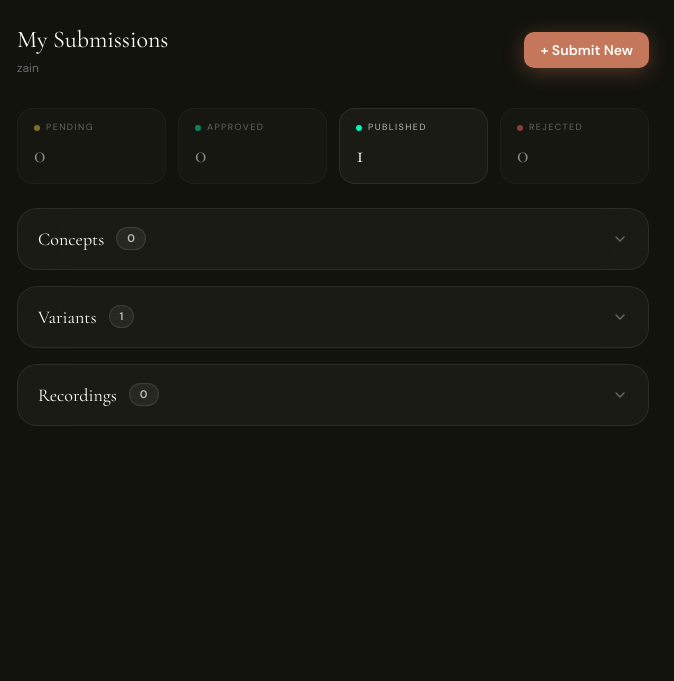
My Submissions — needs completion › shows a pending edit as old → new next to the unchanged details
The image size is (674, 681).
Click the button "Variants 1" at {"x": 67, "y": 316}, box [18,286,648,346]
(page scrolled)
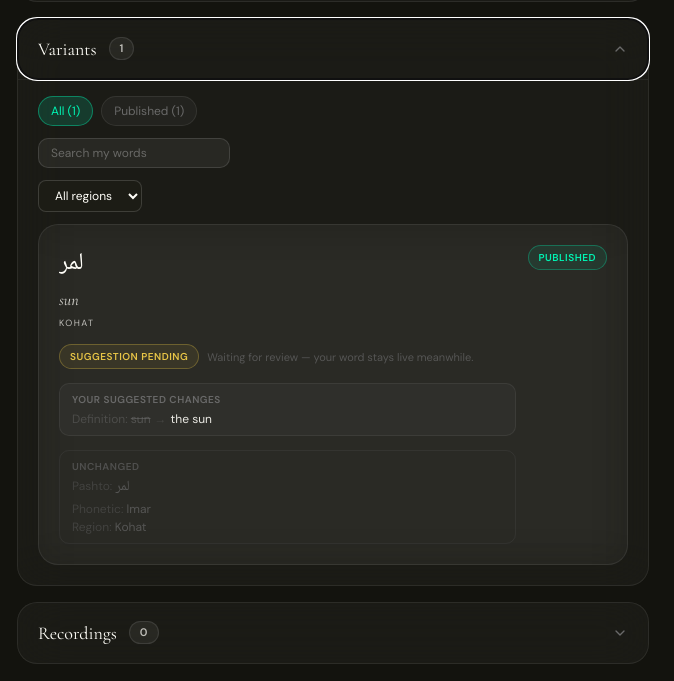
Result: the text "لمر" next to "Pashto" is shown at [115,475,130,499]
Result: the text "lmar" is shown at [127,501,151,517]
